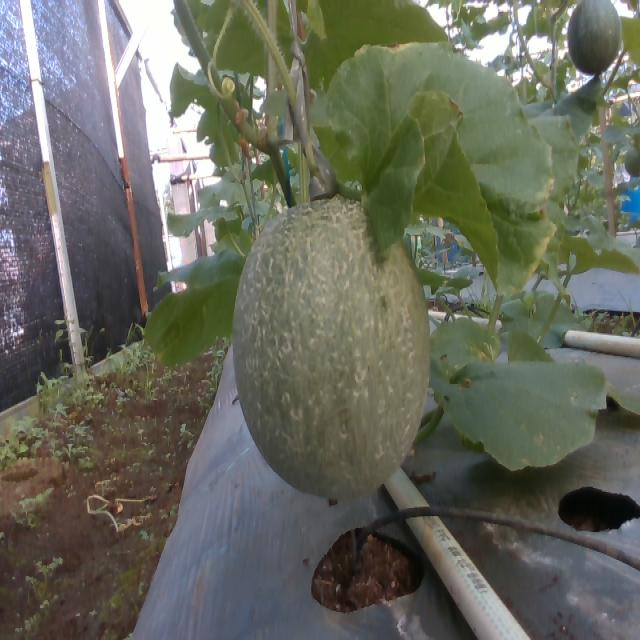melon: (234, 199, 431, 499)
